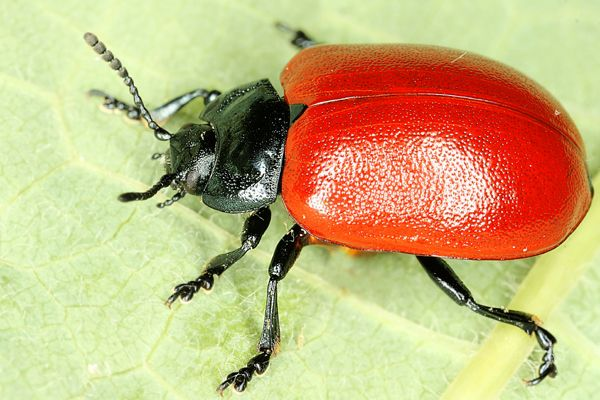Chrysomela_populi: (80, 16, 597, 393)
